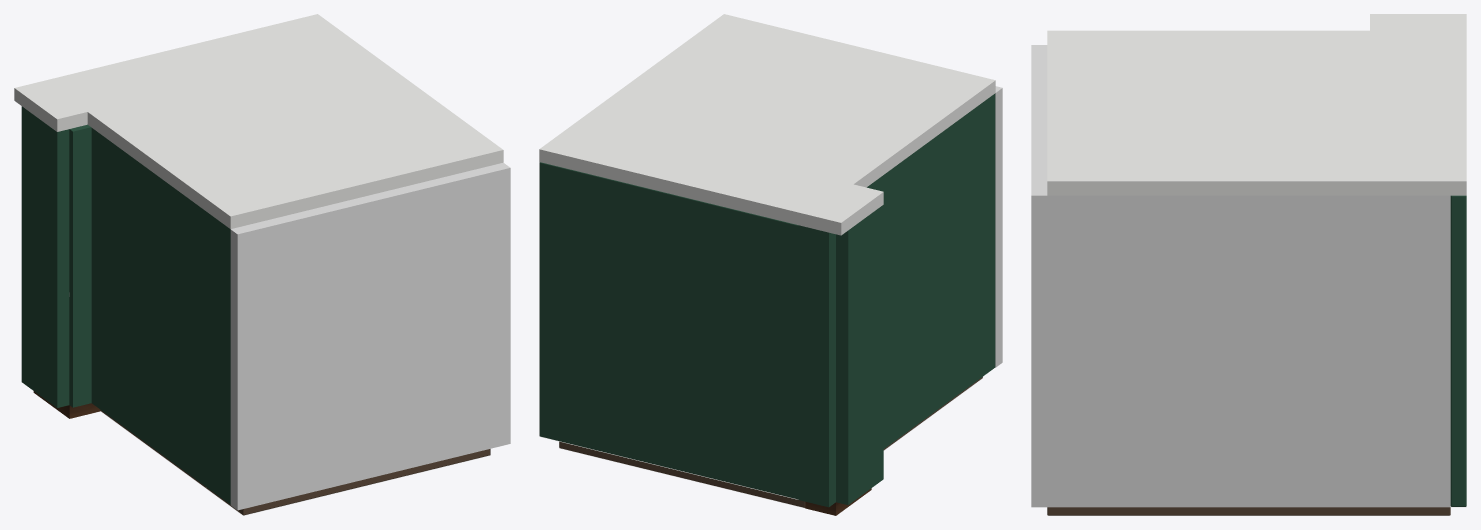
The model's file is room.glb.
3 views of the same model, side by side, from view 1: azimuth 30°, elevation 25°; view 2: azimuth 150°, elevation 25°; view 3: azimuth 270°, elevation 25° (orthographic). The views are drawn at different scales.
Visible parts, largest first — view 1: COL_Boundary south, ROOM_static, Ceiling | white, Ceiling | white alcove; view 2: ROOM_static, Ceiling | white, Ceiling | white alcove, COL_Boundary south, COL_Gallery wall north; view 3: COL_Boundary east, Ceiling | white, ROOM_static, COL_Boundary south, Ceiling | white alcove.
Boxes of the visible parts, x1,y1,x2,y2 form: COL_Boundary south: (230, 162, 510, 510); ROOM_static: (21, 106, 490, 515); Ceiling | white: (45, 14, 503, 229); Ceiling | white alcove: (14, 80, 87, 131); ROOM_static: (539, 93, 995, 515); Ceiling | white: (539, 14, 995, 227); Ceiling | white alcove: (811, 184, 883, 235); COL_Boundary south: (995, 86, 1002, 367); COL_Gallery wall north: (539, 162, 798, 499); COL_Boundary east: (1047, 195, 1450, 507); Ceiling | white: (1047, 30, 1466, 195); ROOM_static: (1047, 195, 1466, 515); COL_Boundary south: (1031, 45, 1047, 507); Ceiling | white alcove: (1370, 14, 1466, 30).
Size of the model in its own units: 2.99 by 2.85 by 3.29.
31 materials, 13 textured.
